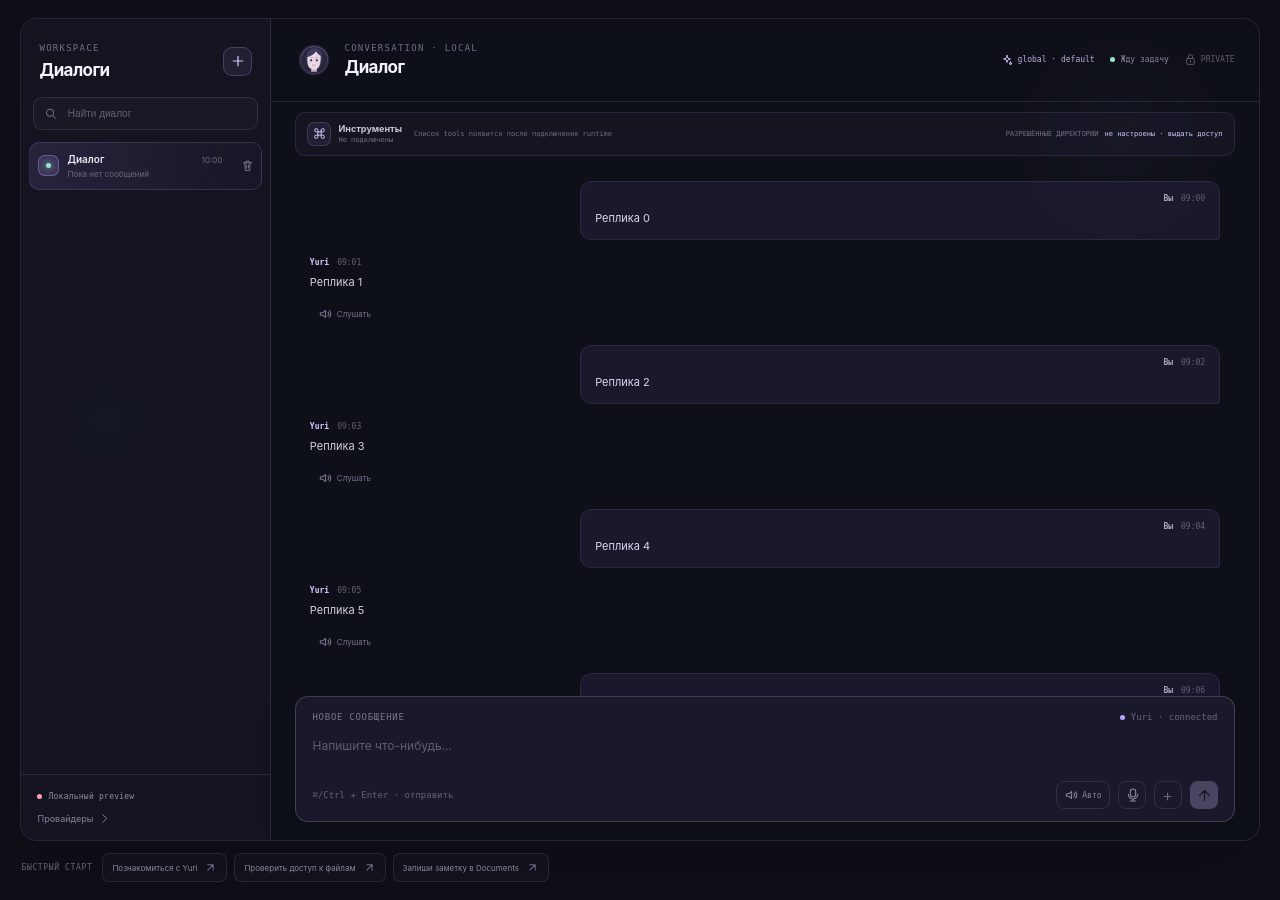
the recording timer does not re-render the chat (M-42) › still tells the chat when recording starts and stops
Expected: the text box named "Сообщение Yuri" is shown, [312,722,1218,781]
Click the button named "Записать голосовое сообщение". click: (1132,795)
box: [1118,781,1146,809]
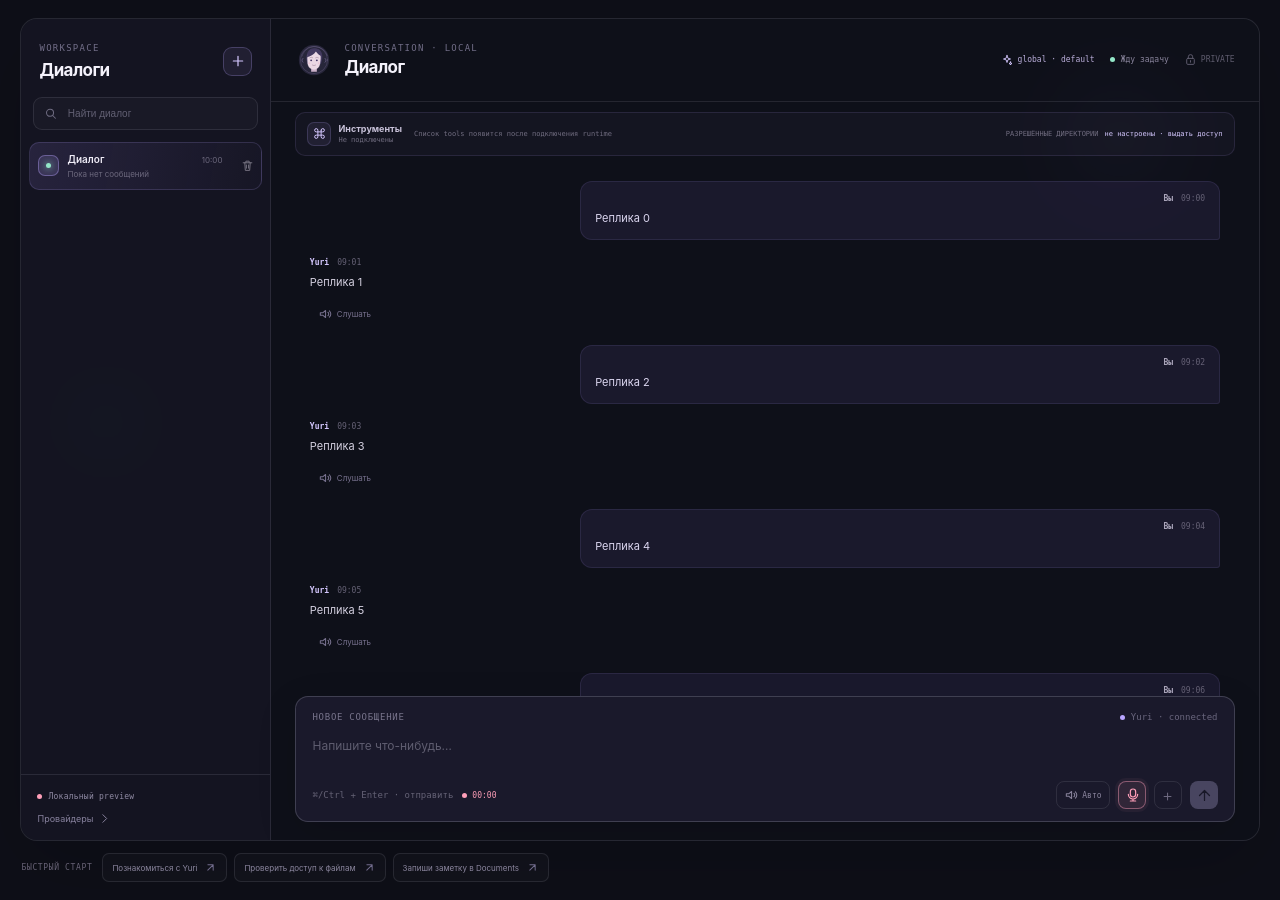
Expected: the button named "Остановить запись" is shown
Click the button named "Остановить запись". click: (1132,795)
box: [1118,781,1146,809]
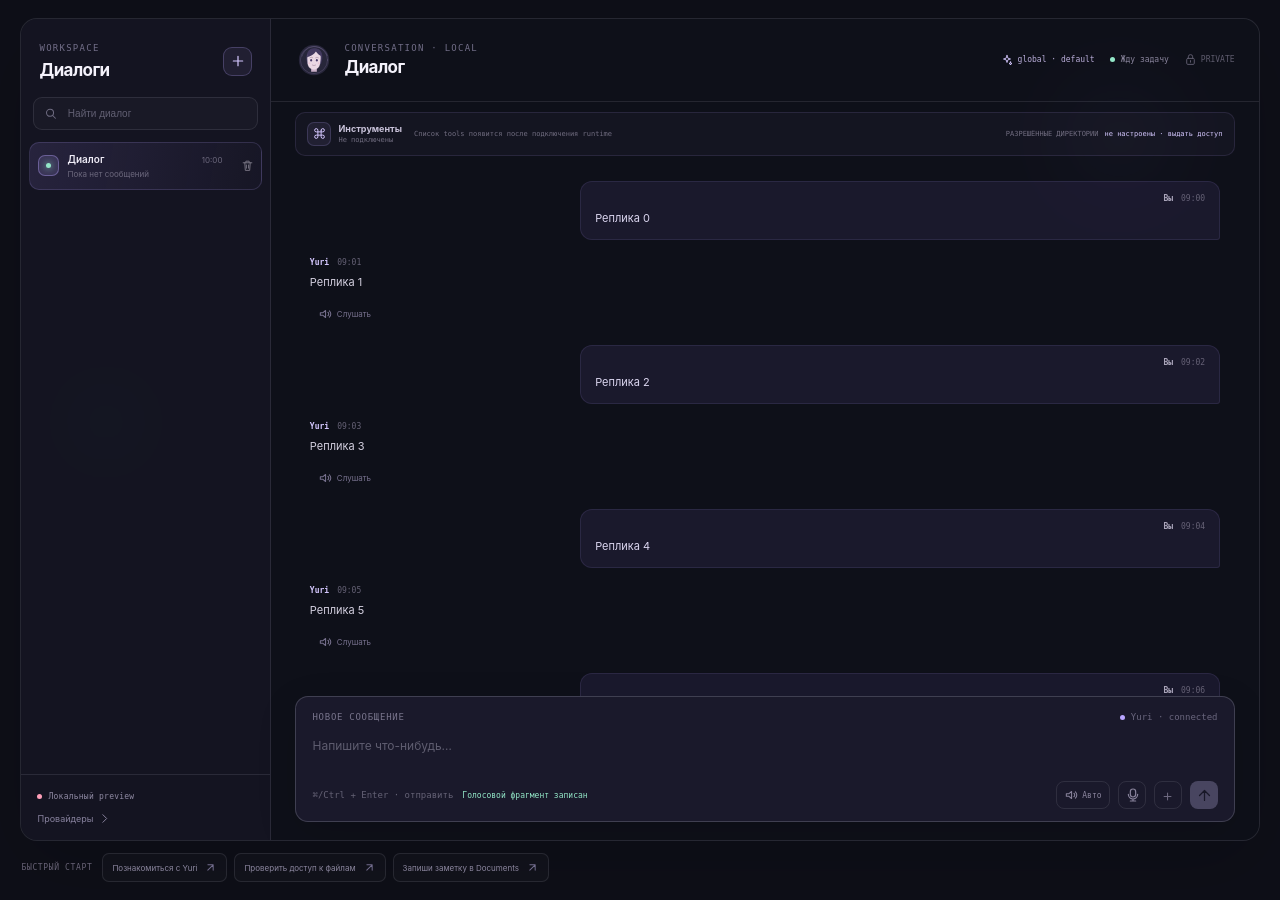
Expected: the button named "Записать голосовое сообщение" is shown, [1118,781,1146,809]
